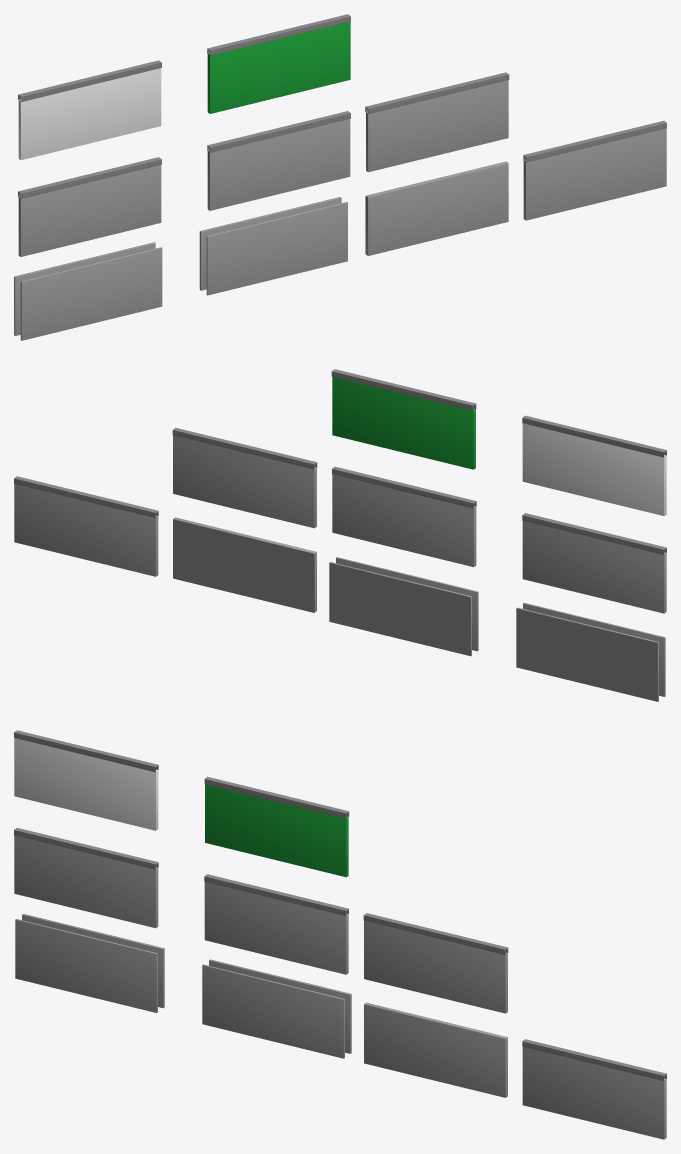
File: exit1.fbx
The picture shows the model from 3 angles, top to bottom: view 1: azimuth 30°, elevation 25°; view 2: azimuth 150°, elevation 25°; view 3: azimuth 330°, elevation 25°; orthographic projection.
Visible parts, largest first — view 1: ChamferBox002, ChamferBox006, ChamferBox003, ChamferBox010, ChamferBox008, ChamferBox009, ChamferBox011, ChamferBox005, ChamferBox001, ChamferBox004, ChamferBox007, Line243 (+5 smaller); view 2: ChamferBox005, ChamferBox008, ChamferBox009, ChamferBox010, ChamferBox011, ChamferBox001, Rectangle002, Rectangle003, Rectangle001, ChamferBox003, ChamferBox006, Line243 (+6 smaller); view 3: ChamferBox002, ChamferBox003, ChamferBox006, ChamferBox008, ChamferBox005, ChamferBox010, ChamferBox009, ChamferBox011, ChamferBox001, ChamferBox004, ChamferBox007, Line249 (+5 smaller).
Boxes of the visible parts, box(x1,y1,x2,y2) form: ChamferBox002: box(366, 161, 508, 255); ChamferBox006: box(20, 247, 162, 340); ChamferBox003: box(206, 202, 347, 295); ChamferBox010: box(523, 128, 666, 220); ChamferBox008: box(18, 165, 161, 256); ChamferBox009: box(18, 68, 161, 159); ChamferBox011: box(207, 22, 350, 113); ChamferBox005: box(207, 119, 350, 210); ChamferBox001: box(366, 80, 508, 172); ChamferBox004: box(200, 197, 341, 290); ChamferBox007: box(14, 242, 155, 335); Line243: box(365, 72, 509, 113); ChamferBox005: box(332, 474, 476, 567); ChamferBox008: box(522, 521, 666, 613); ChamferBox009: box(522, 423, 666, 515); ChamferBox010: box(14, 484, 158, 576); ChamferBox011: box(332, 377, 475, 469); ChamferBox001: box(173, 435, 316, 528); Rectangle002: box(329, 563, 470, 656); Rectangle003: box(516, 608, 657, 701); Rectangle001: box(173, 519, 314, 612); ChamferBox003: box(336, 557, 478, 651); ChamferBox006: box(523, 602, 665, 696); Line243: box(172, 427, 317, 469); ChamferBox002: box(364, 1002, 507, 1097); ChamferBox003: box(202, 964, 344, 1058); ChamferBox006: box(15, 919, 157, 1012); ChamferBox008: box(14, 835, 158, 928); ChamferBox005: box(204, 882, 348, 974); ChamferBox010: box(522, 1047, 666, 1139); ChamferBox009: box(14, 738, 158, 830); ChamferBox011: box(205, 784, 348, 877); ChamferBox001: box(364, 920, 507, 1013); ChamferBox004: box(209, 959, 351, 1053); ChamferBox007: box(22, 914, 164, 1008); Line249: box(204, 776, 349, 818).
Bounding box in the file's own units: 161 × 58.78 × 3.56.
